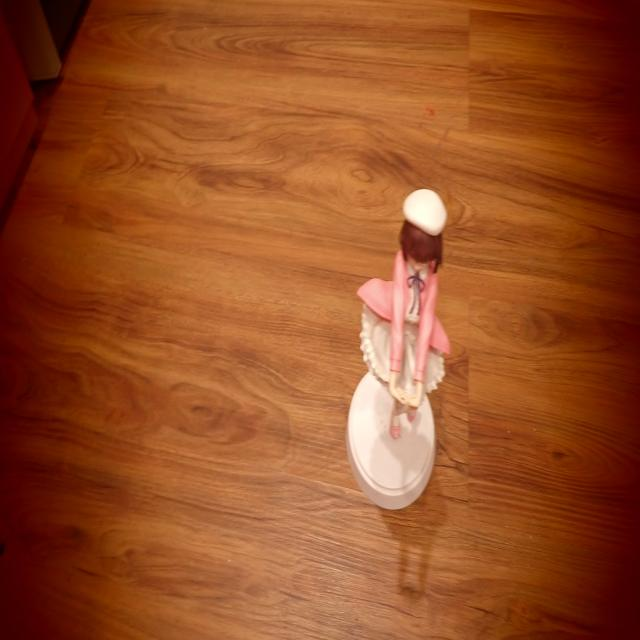My-pink-anime-figure: (358, 190, 450, 437)
